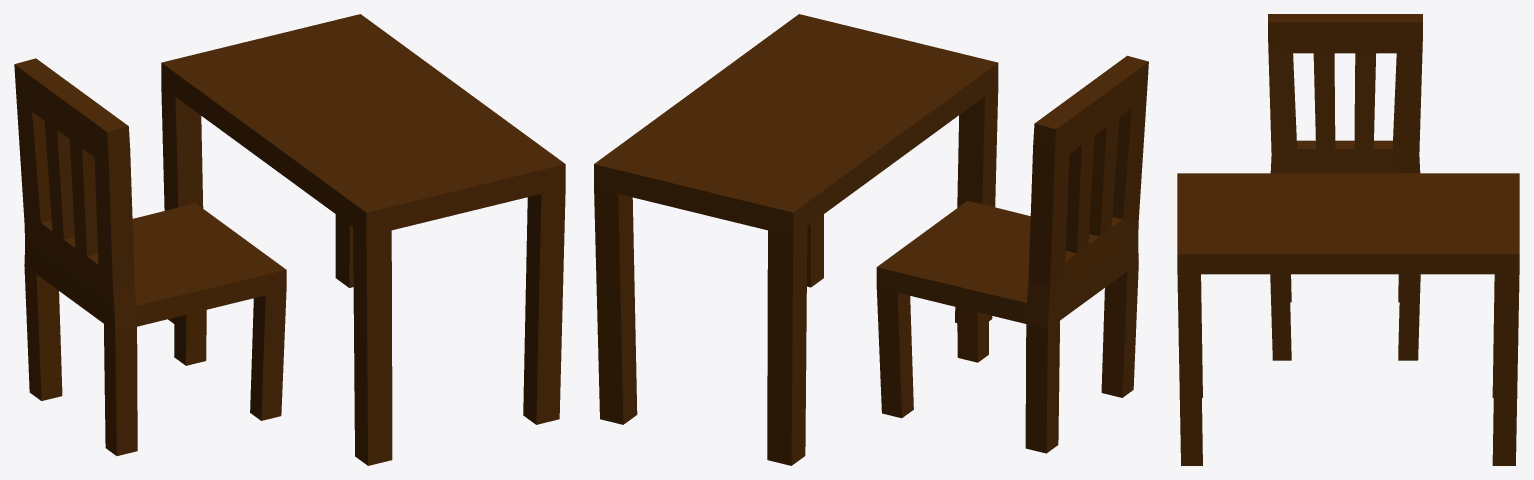
File: ChairAndDesk.fbx
The picture shows the model from 3 angles, left to right: view 1: azimuth 30°, elevation 25°; view 2: azimuth 150°, elevation 25°; view 3: azimuth 270°, elevation 25°; orthographic projection. The views are drawn at different scales.
Visible parts, largest first — view 1: Cube, Cube.001; view 2: Cube, Cube.001; view 3: Cube, Cube.001.
Part boxes in pixels (box(x1,y1,x2,y2)): Cube: box(161, 14, 565, 465); Cube.001: box(14, 58, 286, 455); Cube: box(594, 14, 998, 465); Cube.001: box(876, 55, 1148, 453); Cube: box(1177, 173, 1519, 465); Cube.001: box(1268, 14, 1422, 360).
Bounding box in the file's own units: 472 × 388 × 415.
